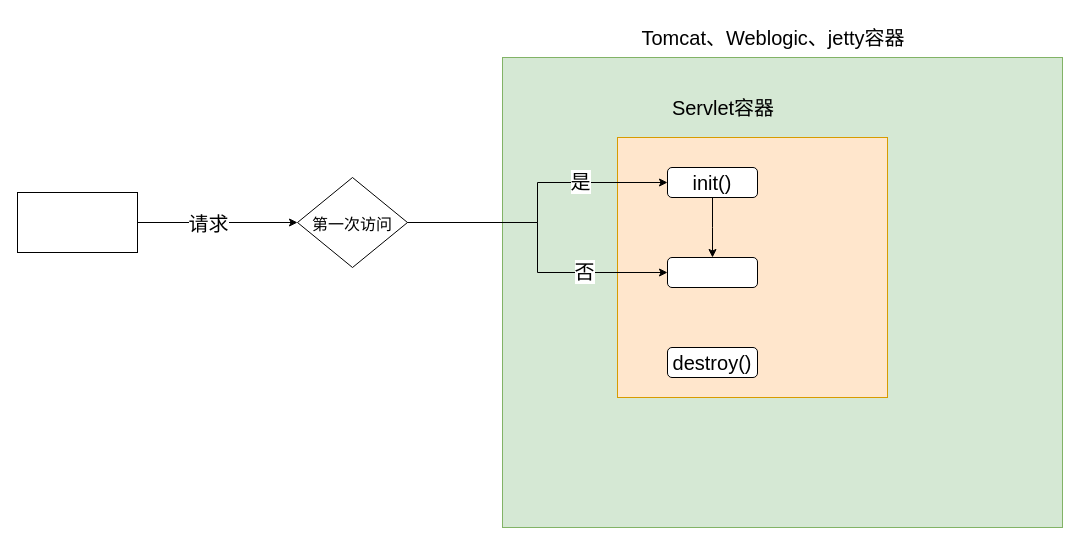
This 1080x545 diagram has some shape labels left out. Here are the shapes that lost their labels. From the top down, the centre of each, then its label:
At pixel 77 222: "web浏览器".
At pixel 712 272: "service()".
